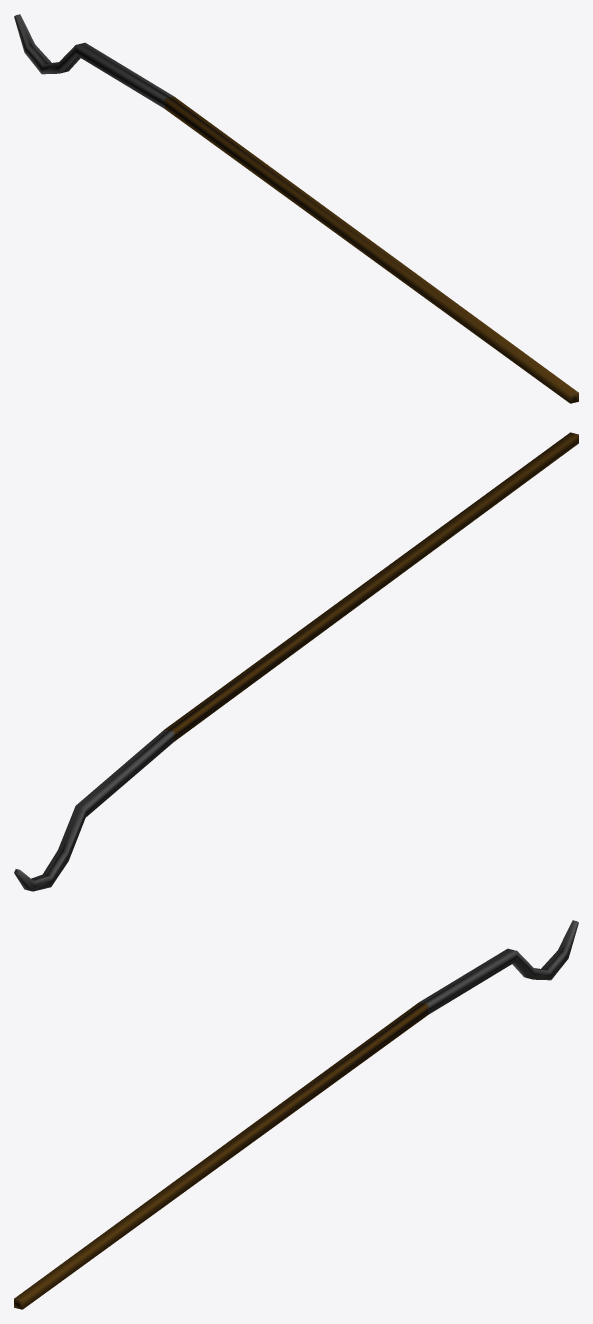
3 renders of one model, top to bottom at view 1: azimuth 30°, elevation 25°; view 2: azimuth 150°, elevation 25°; view 3: azimuth 330°, elevation 25°, orthographic.
Parts seen in each view (by area): view 1: Cube; view 2: Cube; view 3: Cube.
Boxes of the visible parts, x1=… form: Cube: x1=14, y1=14, x2=578, y2=403; Cube: x1=14, y1=432, x2=578, y2=891; Cube: x1=14, y1=920, x2=578, y2=1309.
Size of the model in its own units: 10.48 by 68.49 by 1051.
1 material, 1 textured.
